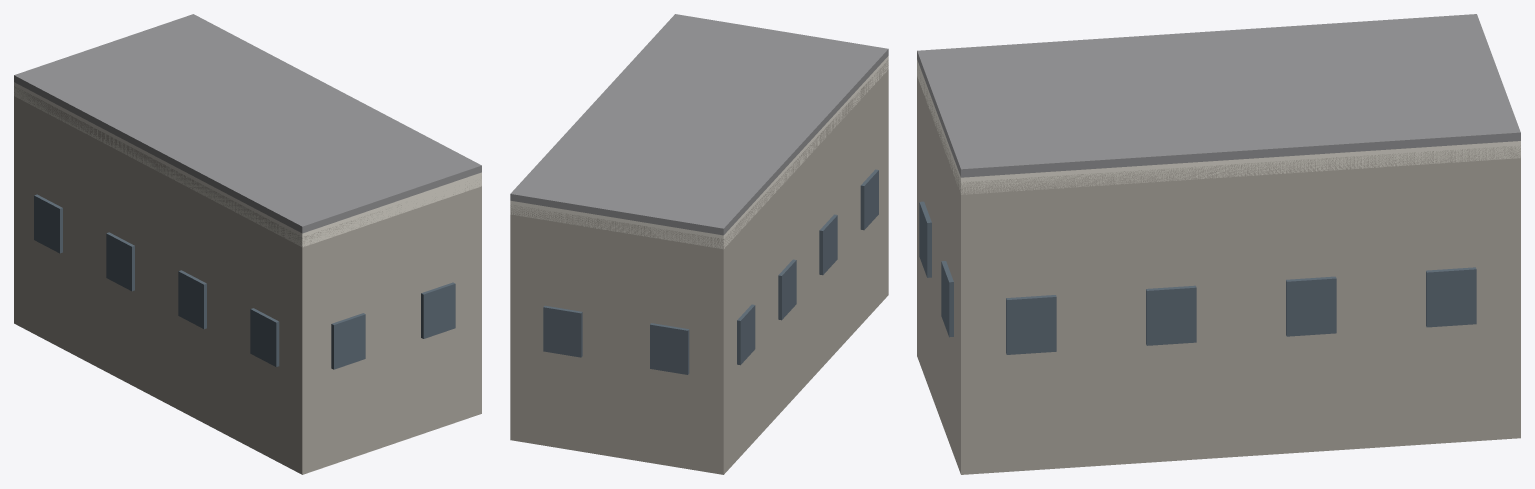
File: s39_gis_248115_820708.glb
3 renders of one model, left to right at view 1: azimuth 30°, elevation 25°; view 2: azimuth 150°, elevation 25°; view 3: azimuth 270°, elevation 25°, orthographic. The views are drawn at different scales.
Parts seen in each view (by area): view 1: mass, roofcap, cornice, win_2_0_0, win_2_0_1, win_1_0_3, win_1_0_0, win_1_0_1, win_1_0_2; view 2: mass, roofcap, cornice, win_0_0_1, win_0_0_0, win_1_0_0, win_1_0_3, win_1_0_2, win_1_0_1; view 3: mass, roofcap, cornice, win_3_0_2, win_3_0_3, win_3_0_1, win_3_0_0, win_2_0_0, win_2_0_1.
Part boxes in pixels (x1,y1,x2,y2): mass: (14,86,481,474); roofcap: (14,14,481,233); cornice: (14,82,481,247); win_2_0_0: (331,313,365,369); win_2_0_1: (421,282,455,338); win_1_0_3: (250,308,279,366); win_1_0_0: (34,194,62,253); win_1_0_1: (106,232,134,291); win_1_0_2: (178,270,206,329); mass: (510,60,888,474); roofcap: (510,14,888,235); cornice: (510,56,888,249); win_0_0_1: (650,323,689,374); win_0_0_0: (543,305,582,357); win_1_0_0: (737,304,755,365); win_1_0_3: (860,169,878,230); win_1_0_2: (819,214,837,275); win_1_0_1: (778,259,796,320); mass: (917,76,1520,474); roofcap: (917,14,1520,177); cornice: (917,59,1520,194); win_3_0_2: (1286,276,1336,336); win_3_0_3: (1426,267,1476,327); win_3_0_1: (1146,285,1196,345); win_3_0_0: (1006,295,1056,354); win_2_0_0: (919,201,931,277); win_2_0_1: (941,261,953,337).
Size of the model in its own units: 9.1 by 8.35 by 14.95.
